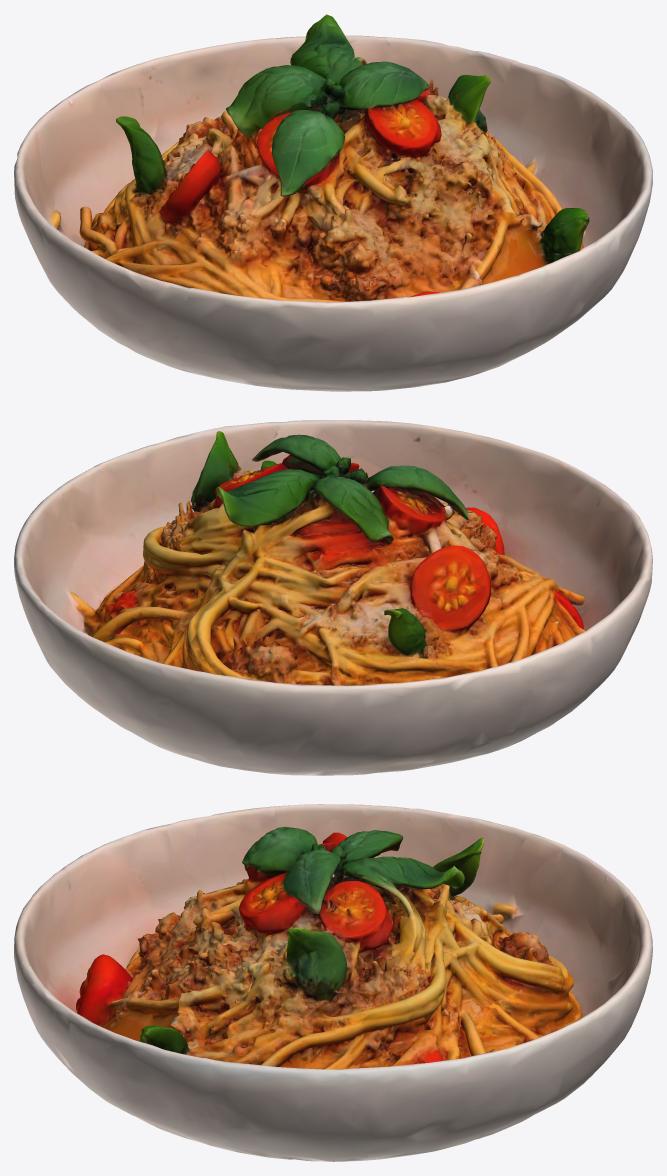
File: espaguetis.glb
The picture shows the model from 3 angles, top to bottom: view 1: azimuth 30°, elevation 25°; view 2: azimuth 150°, elevation 25°; view 3: azimuth 270°, elevation 25°; orthographic projection.
Parts seen in each view (by area): view 1: Object_4; view 2: Object_4; view 3: Object_4.
Boxes of the visible parts, box(x1,y1,x2,y2) form: Object_4: box(14, 14, 652, 391); Object_4: box(14, 420, 652, 775); Object_4: box(14, 804, 652, 1161).
Size of the model in its own units: 1.9 by 0.7201 by 1.9.
1 material, 1 textured.
